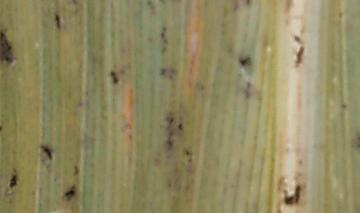tarspot: (1, 26, 16, 65), (160, 114, 175, 151), (281, 183, 302, 208), (292, 44, 305, 70), (158, 26, 169, 54), (38, 143, 53, 161), (62, 183, 77, 200), (281, 1, 298, 16), (241, 80, 252, 101), (6, 174, 19, 191), (108, 69, 119, 88), (237, 54, 252, 67), (351, 132, 360, 153), (53, 12, 62, 31), (290, 32, 304, 44), (182, 147, 193, 158), (157, 66, 166, 77), (72, 164, 79, 175), (176, 122, 183, 133), (336, 9, 344, 18), (338, 102, 347, 109), (69, 1, 80, 5), (243, 1, 251, 6), (1, 124, 4, 134)
